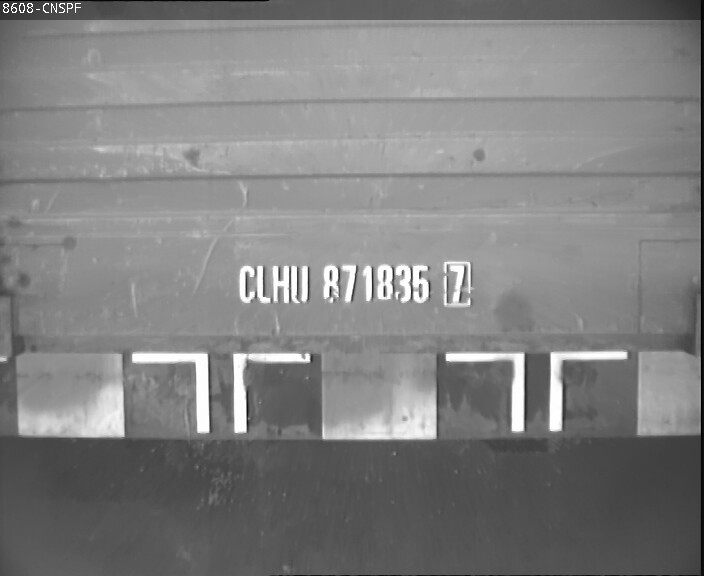groundmarker_1: (442, 351, 626, 429), (129, 353, 313, 431)
